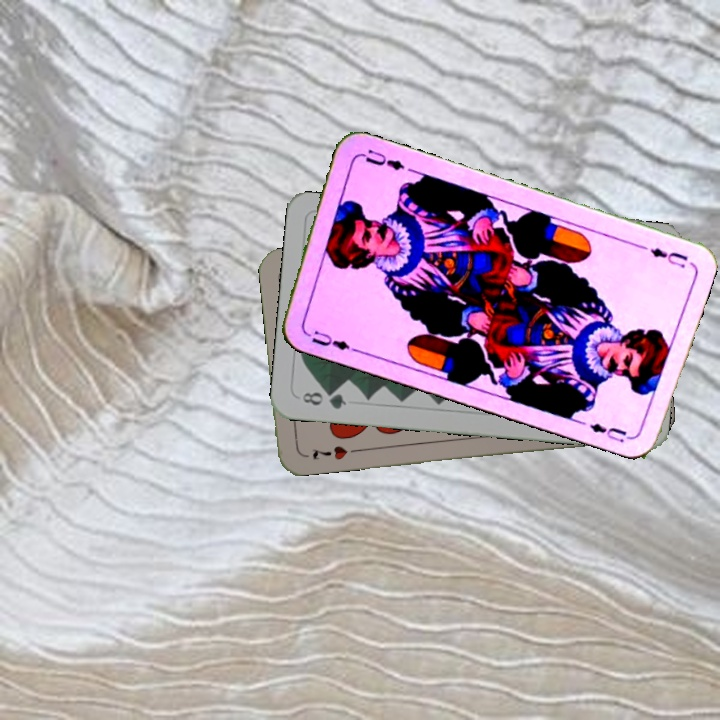EU: (307, 326, 358, 355), (646, 243, 691, 271)
G8: (298, 387, 349, 412)
H7: (308, 441, 350, 463)
